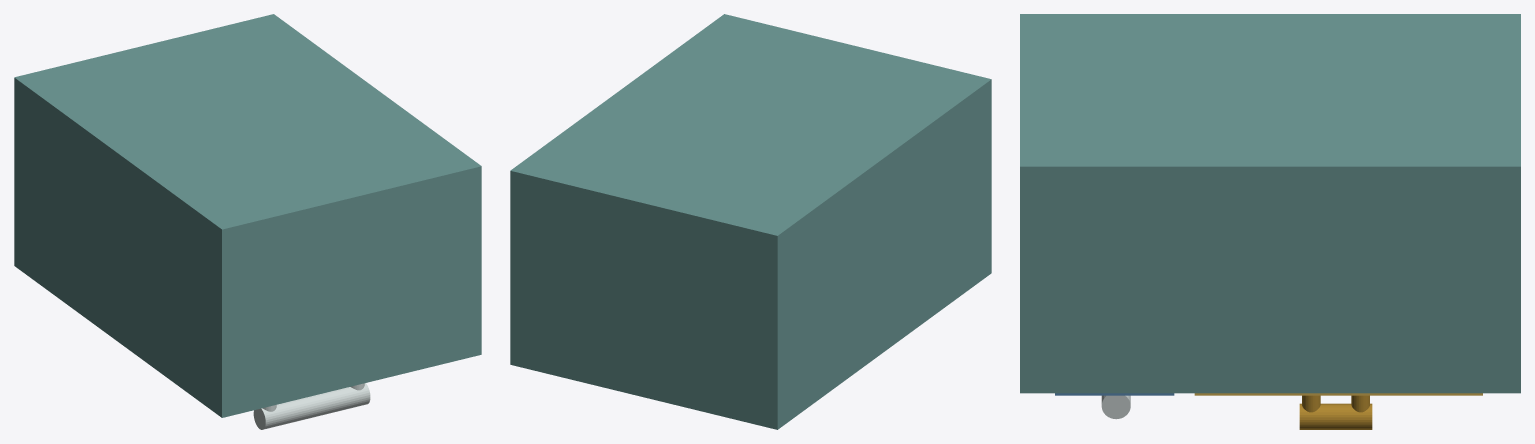
The model's file is cabinet.obj.
3 renders of one model, left to right at view 1: azimuth 30°, elevation 25°; view 2: azimuth 150°, elevation 25°; view 3: azimuth 270°, elevation 25°, orthographic. The views are drawn at different scales.
Visible parts, largest first — view 1: body-back, body-left-wall, body-top, body-right-wall, drawer-handle-grip; view 2: body-back, body-left-wall, body-bottom, body-right-wall; view 3: body-right-wall, body-back, body-left-wall, door-handle-grip, door-panel, drawer-handle-grip.
Boxes of the visible parts, x1=… form: body-back: x1=31, y1=18, x2=464, y2=242; body-left-wall: x1=14, y1=73, x2=238, y2=417; body-top: x1=239, y1=188, x2=464, y2=413; body-right-wall: x1=257, y1=14, x2=481, y2=358; drawer-handle-grip: x1=253, y1=383, x2=370, y2=429; body-back: x1=527, y1=18, x2=973, y2=249; body-left-wall: x1=760, y1=75, x2=991, y2=429; body-bottom: x1=527, y1=193, x2=760, y2=425; body-right-wall: x1=510, y1=14, x2=741, y2=368; body-right-wall: x1=1020, y1=156, x2=1520, y2=393; body-back: x1=1020, y1=24, x2=1520, y2=156; body-left-wall: x1=1020, y1=14, x2=1520, y2=23; door-handle-grip: x1=1299, y1=403, x2=1372, y2=429; door-panel: x1=1194, y1=393, x2=1482, y2=395; drawer-handle-grip: x1=1101, y1=395, x2=1130, y2=419.
Size of the model in its own units: 1.24 by 1.13 by 1.72.
